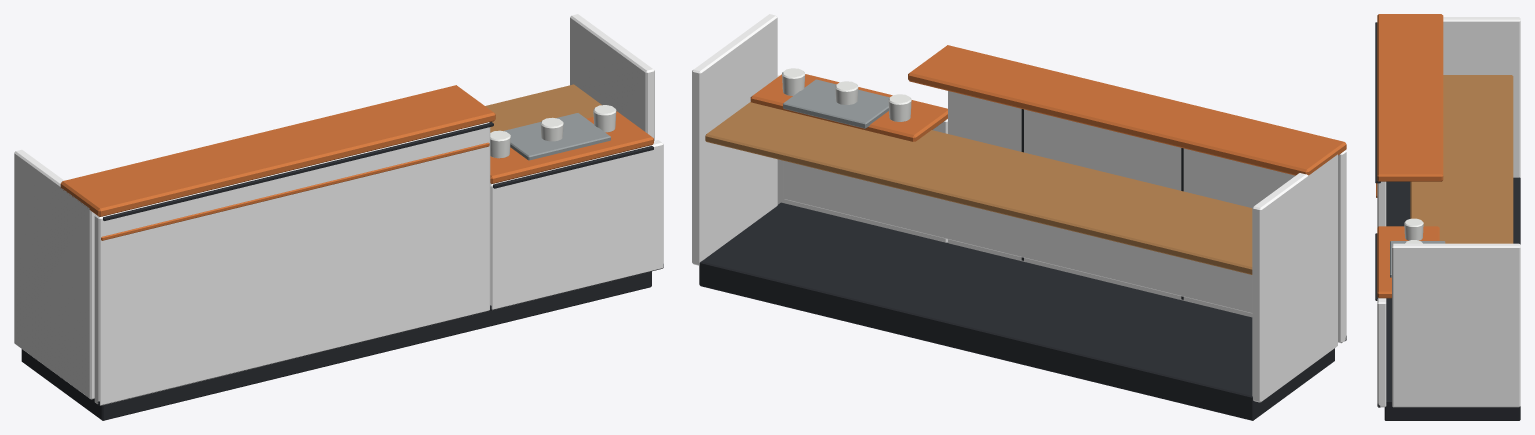
File: counter-cafe-3000.glb
3 views of the same model, side by side, from view 1: azimuth 30°, elevation 25°; view 2: azimuth 150°, elevation 25°; view 3: azimuth 270°, elevation 25° (orthographic). The views are drawn at different scales.
Visible parts, largest first — view 1: counter-cafe-3000.tint, counter-cafe-3000.accent, counter-cafe-3000.graphite, counter-cafe-3000.wood, counter-cafe-3000.metal, counter-cafe-3000.ceramic; view 2: counter-cafe-3000.tint, counter-cafe-3000.graphite, counter-cafe-3000.wood, counter-cafe-3000.accent, counter-cafe-3000.metal, counter-cafe-3000.ceramic; view 3: counter-cafe-3000.tint, counter-cafe-3000.wood, counter-cafe-3000.accent, counter-cafe-3000.graphite, counter-cafe-3000.ceramic, counter-cafe-3000.metal.
Boxes of the visible parts, bbox=[...] form: counter-cafe-3000.tint: bbox=[14, 14, 663, 405]; counter-cafe-3000.accent: bbox=[60, 85, 653, 240]; counter-cafe-3000.graphite: bbox=[21, 122, 663, 420]; counter-cafe-3000.wood: bbox=[485, 84, 601, 132]; counter-cafe-3000.metal: bbox=[503, 113, 610, 160]; counter-cafe-3000.ceramic: bbox=[490, 105, 616, 158]; counter-cafe-3000.tint: bbox=[692, 14, 1346, 402]; counter-cafe-3000.graphite: bbox=[699, 109, 1346, 420]; counter-cafe-3000.wood: bbox=[705, 102, 1252, 274]; counter-cafe-3000.accent: bbox=[750, 45, 1346, 175]; counter-cafe-3000.metal: bbox=[783, 79, 889, 128]; counter-cafe-3000.ceramic: bbox=[782, 68, 911, 121]; counter-cafe-3000.tint: bbox=[1377, 17, 1520, 407]; counter-cafe-3000.wood: bbox=[1410, 75, 1513, 243]; counter-cafe-3000.accent: bbox=[1376, 14, 1443, 298]; counter-cafe-3000.graphite: bbox=[1375, 22, 1520, 420]; counter-cafe-3000.ceramic: bbox=[1404, 218, 1423, 243]; counter-cafe-3000.metal: bbox=[1390, 241, 1445, 277].
Bounding box in the file's own units: 3 × 1.1 × 0.8.
